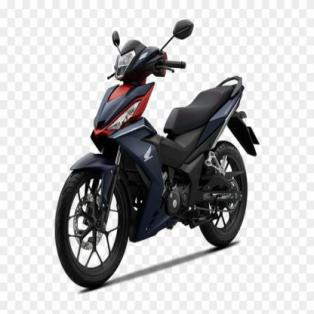Motocicleta: (54, 19, 260, 291)
